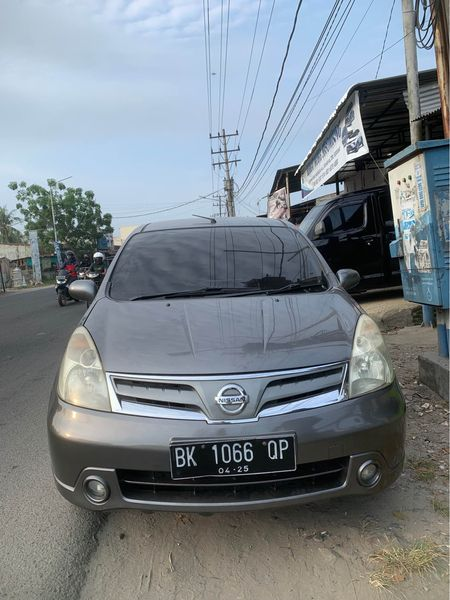plate: (164, 434, 305, 475)
